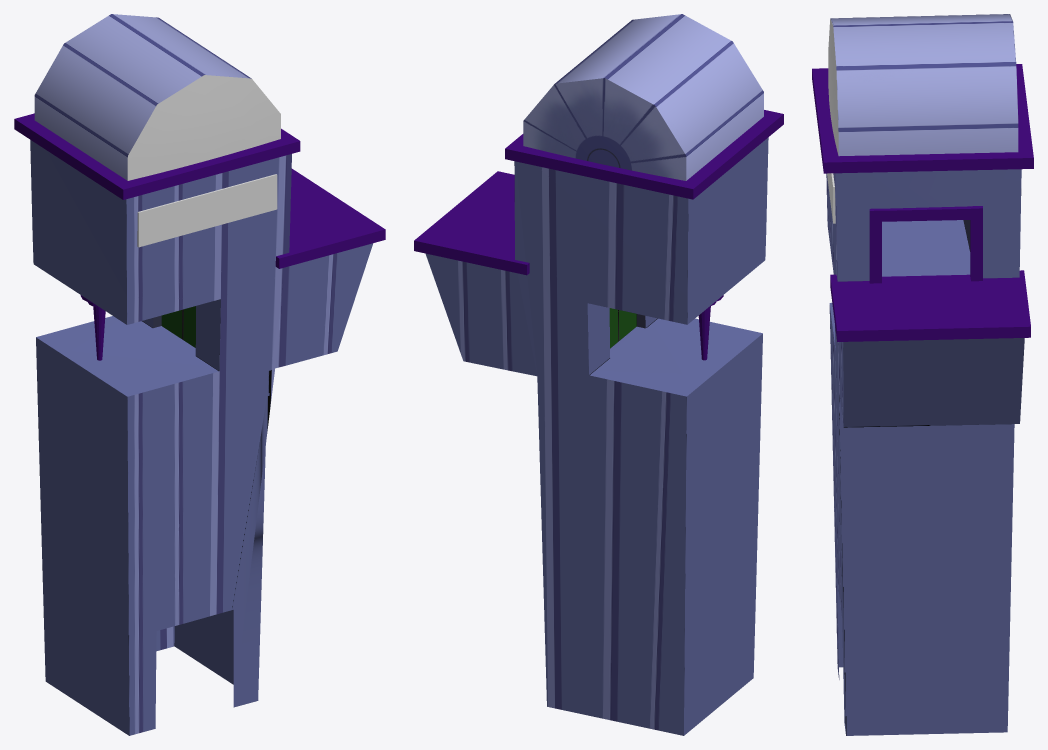
Rendered from towerFBX 1.fbx.
The picture shows the model from 3 angles, left to right: view 1: azimuth 30°, elevation 25°; view 2: azimuth 150°, elevation 25°; view 3: azimuth 270°, elevation 25°; orthographic projection. The views are drawn at different scales.
Parts seen in each view (by area): view 1: Cylinder001; view 2: Cylinder001; view 3: Cylinder001.
Part boxes in pixels (left/top/right/bottom): Cylinder001: left=14, top=14, right=385, bottom=735; Cylinder001: left=414, top=14, right=783, bottom=735; Cylinder001: left=812, top=14, right=1033, bottom=735.
Size of the model in its own units: 2137 by 4651 by 1375.
